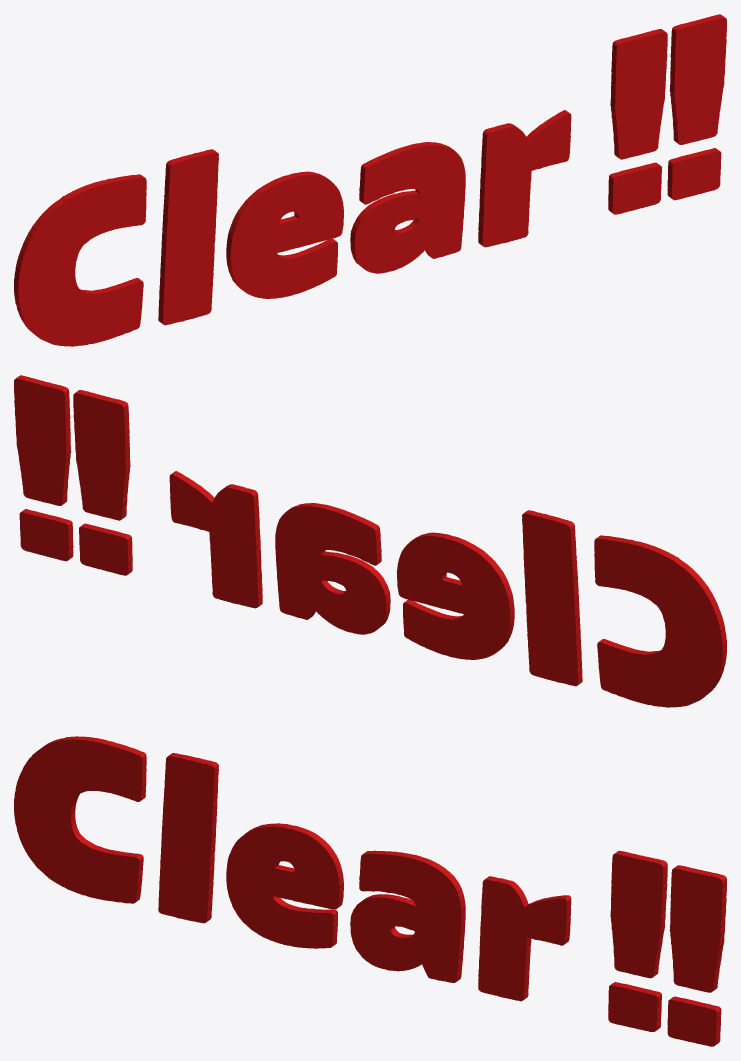
Rendered from TD_Clear.obj.
3 views of the same model, one above another, from view 1: azimuth 30°, elevation 25°; view 2: azimuth 150°, elevation 25°; view 3: azimuth 330°, elevation 25° (orthographic).
Visible parts, largest first — view 1: テキスト; view 2: テキスト; view 3: テキスト.
Boxes of the visible parts, x1,y1,x2,y2 form: テキスト: [14, 14, 726, 346]; テキスト: [14, 375, 726, 707]; テキスト: [14, 736, 726, 1046].
Size of the model in its own units: 7.38 by 1.72 by 0.08.
